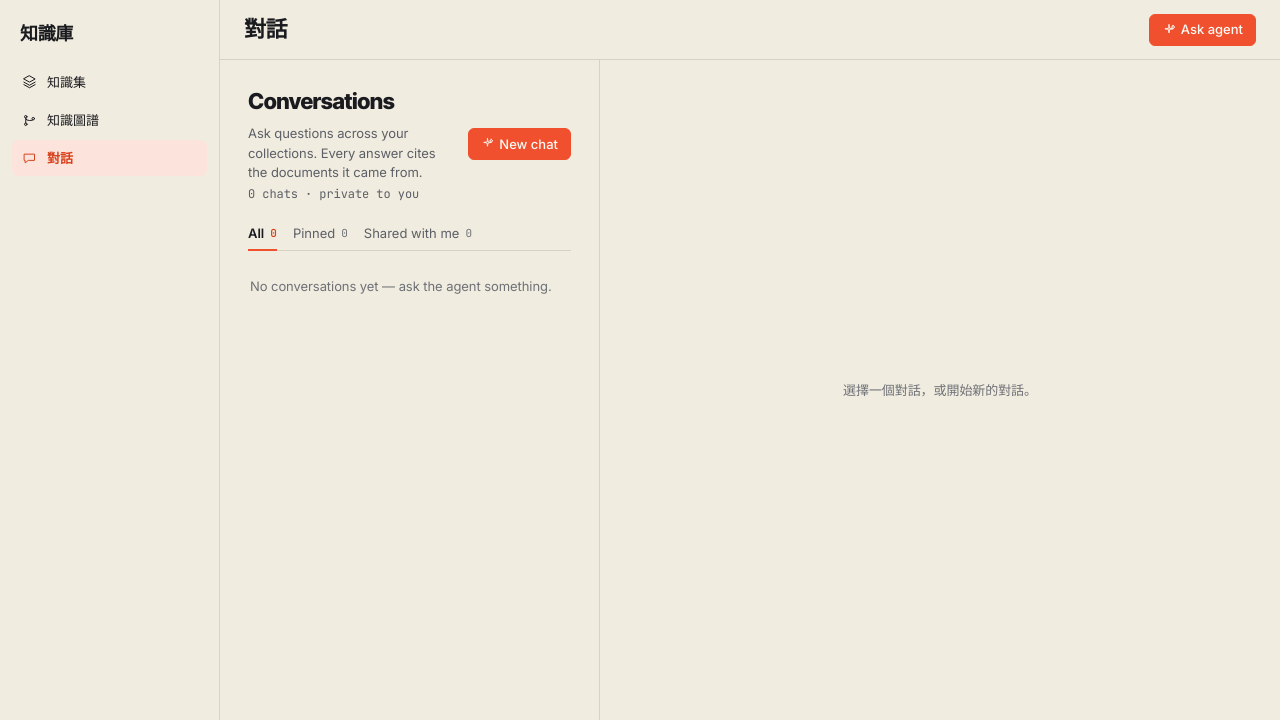
KbHome shell › opens a NEW chat as a full-page view, not a drawer
Check: the text "選擇一個對話，或開始新的對話。" is shown, box [843, 380, 1037, 400]
Click the button "New chat" at (520,144), box [468, 128, 571, 160]
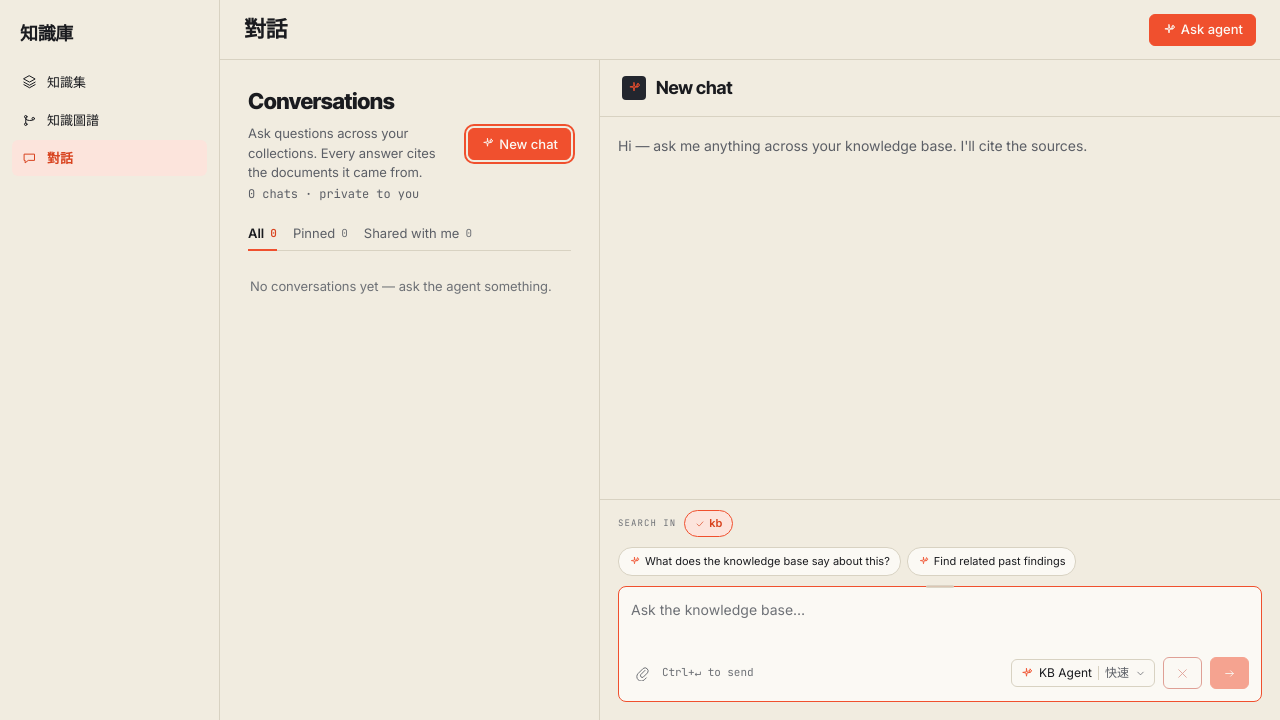
Check: the text box with placeholder "Ask the knowledge base…" is shown, box [631, 599, 1249, 643]
